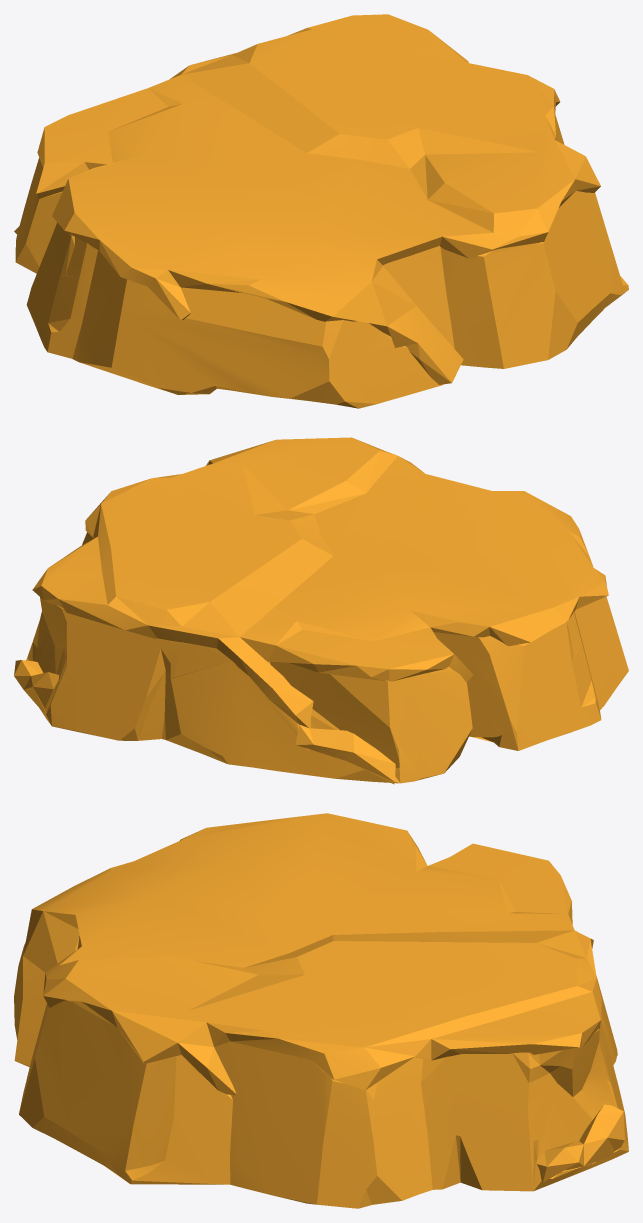
The model's file is SM_Iceberg_Medium_A_Snow.fbx.
The picture shows the model from 3 angles, top to bottom: view 1: azimuth 30°, elevation 25°; view 2: azimuth 150°, elevation 25°; view 3: azimuth 270°, elevation 25°; orthographic projection. The views are drawn at different scales.
Visible parts, largest first — view 1: iceberg-medium-a-snow; view 2: iceberg-medium-a-snow; view 3: iceberg-medium-a-snow.
Part boxes in pixels (box(x1,y1,x2,y2)): iceberg-medium-a-snow: box(14, 14, 628, 408); iceberg-medium-a-snow: box(14, 437, 628, 784); iceberg-medium-a-snow: box(14, 813, 628, 1208).
Size of the model in its own units: 9.34 by 2.33 by 8.5.
